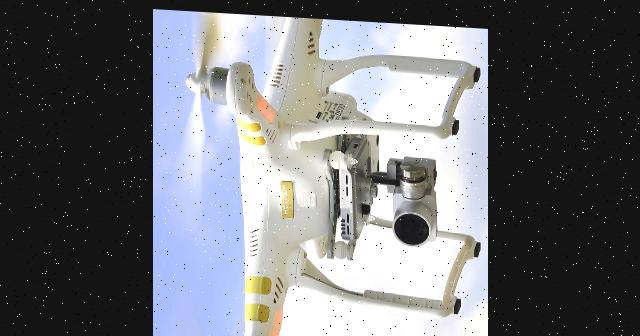drone: (152, 7, 488, 336)
